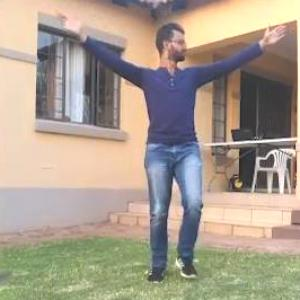takeoff: (74, 0, 300, 299)
